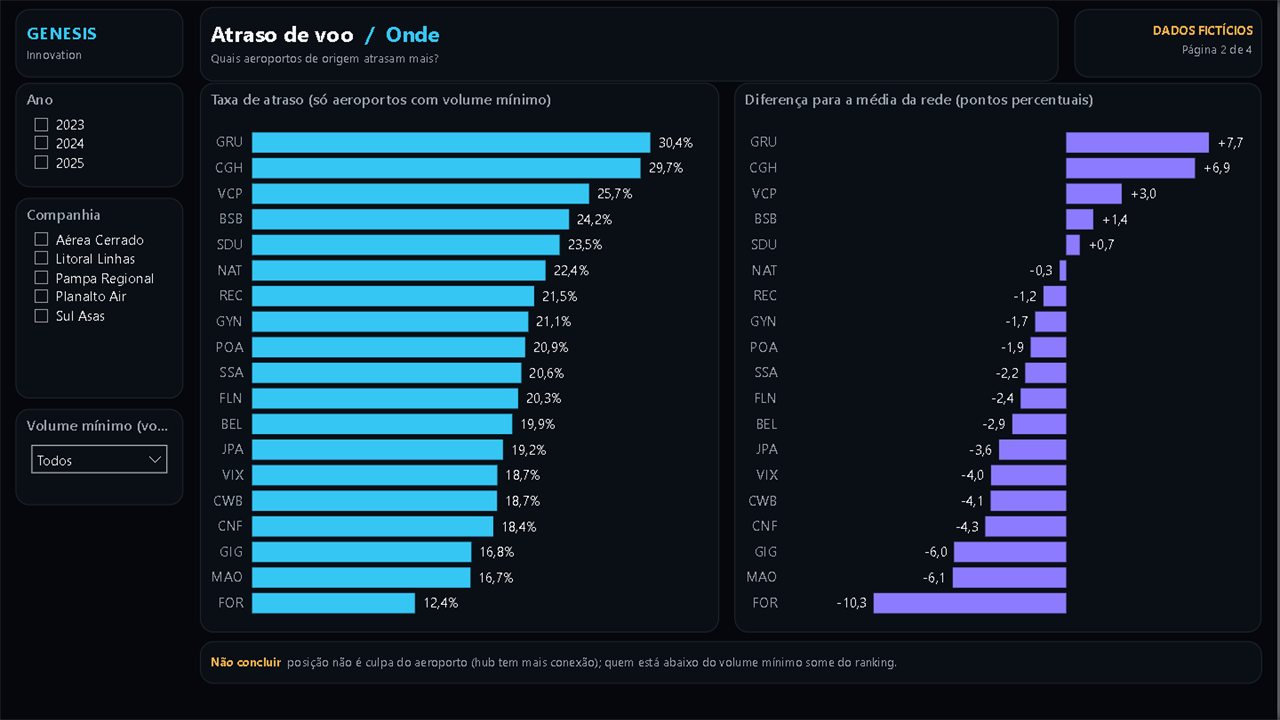

What the dashboard file says about the page in this screenshot:
{"tool":"powerbi","page":{"name":"Onde","canvas":[1280,720],"ordinal":1},"visuals":[{"type":"textbox","box":[16,10,168,68],"z":1},{"type":"textbox","box":[200,8,860,74],"z":2},{"type":"textbox","box":[1076,10,188,68],"z":3},{"type":"slicer","title":"Ano","fields":{"Values":["dim_calendario.ano"]},"box":[16,84,168,104],"z":9},{"type":"slicer","title":"Companhia","fields":{"Values":["dim_companhia.companhia"]},"box":[16,198,168,200],"z":10},{"type":"slicer","title":"Volume mínimo (voos)","fields":{"Values":["Param Volume Minimo.Value"]},"box":[16,408,168,96],"z":11},{"type":"barChart","title":"Taxa de atraso (só aeroportos com volume mínimo)","fields":{"Category":["dim_aeroporto.iata"],"Y":["_Medidas.Taxa de Atraso (volume mínimo)"]},"box":[200,84,520,548],"z":20},{"type":"barChart","title":"Diferença para a média da rede (pontos percentuais)","fields":{"Category":["dim_aeroporto.iata"],"Y":["_Medidas.Diferença para a Rede (p.p.)"]},"box":[736,84,528,548],"z":21},{"type":"textbox","box":[200,640,1064,42],"z":22}]}

Visuals, with their boxes in screenshot pixels (x1, y1, x2, y2), scaled from the page's 1280x720 canvas onto the 1280x720 screenshot:
textbox: rect(16, 10, 184, 78)
textbox: rect(200, 8, 1060, 82)
textbox: rect(1076, 10, 1264, 78)
"Ano" slicer: rect(16, 84, 184, 188)
"Companhia" slicer: rect(16, 198, 184, 398)
"Volume mínimo (voos)" slicer: rect(16, 408, 184, 504)
"Taxa de atraso (só aeroportos com volume mínimo)" barChart: rect(200, 84, 720, 632)
"Diferença para a média da rede (pontos percentuais)" barChart: rect(736, 84, 1264, 632)
textbox: rect(200, 640, 1264, 682)
